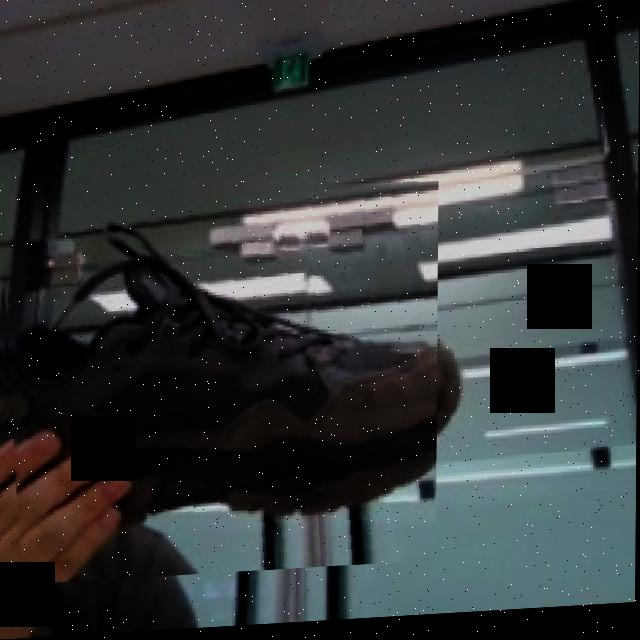shoe: (0, 171, 439, 586)
